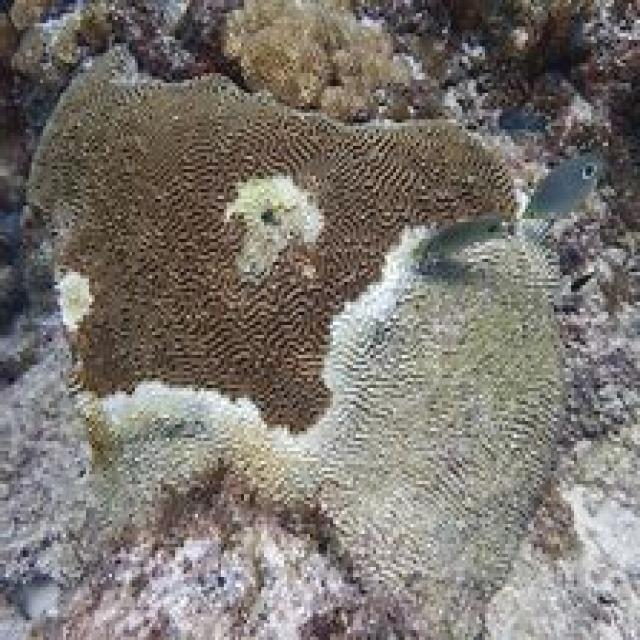Coral: (17, 43, 570, 640), (222, 0, 414, 121)
